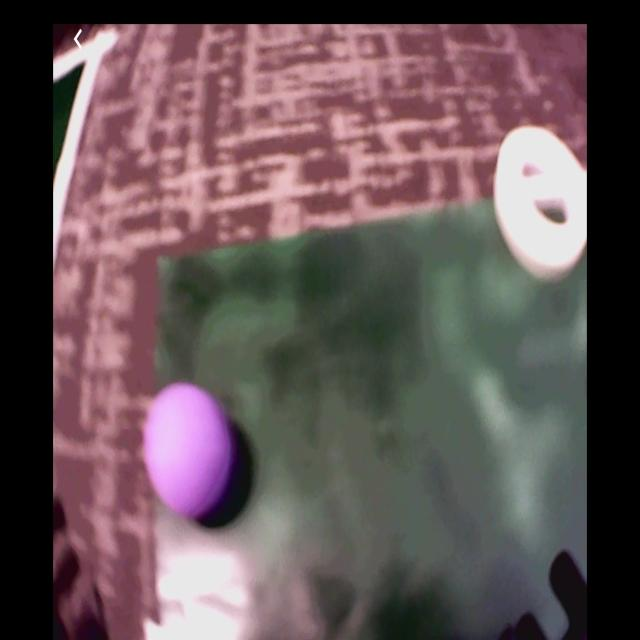ball: (144, 385, 231, 516)
